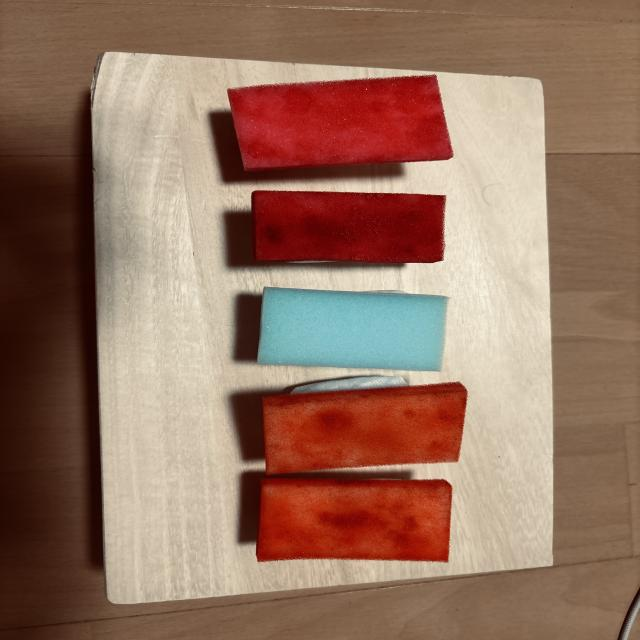ika: (258, 287, 448, 371)
maguro: (228, 75, 452, 171), (252, 190, 446, 263)
salmon: (262, 376, 468, 475), (256, 477, 452, 562)
